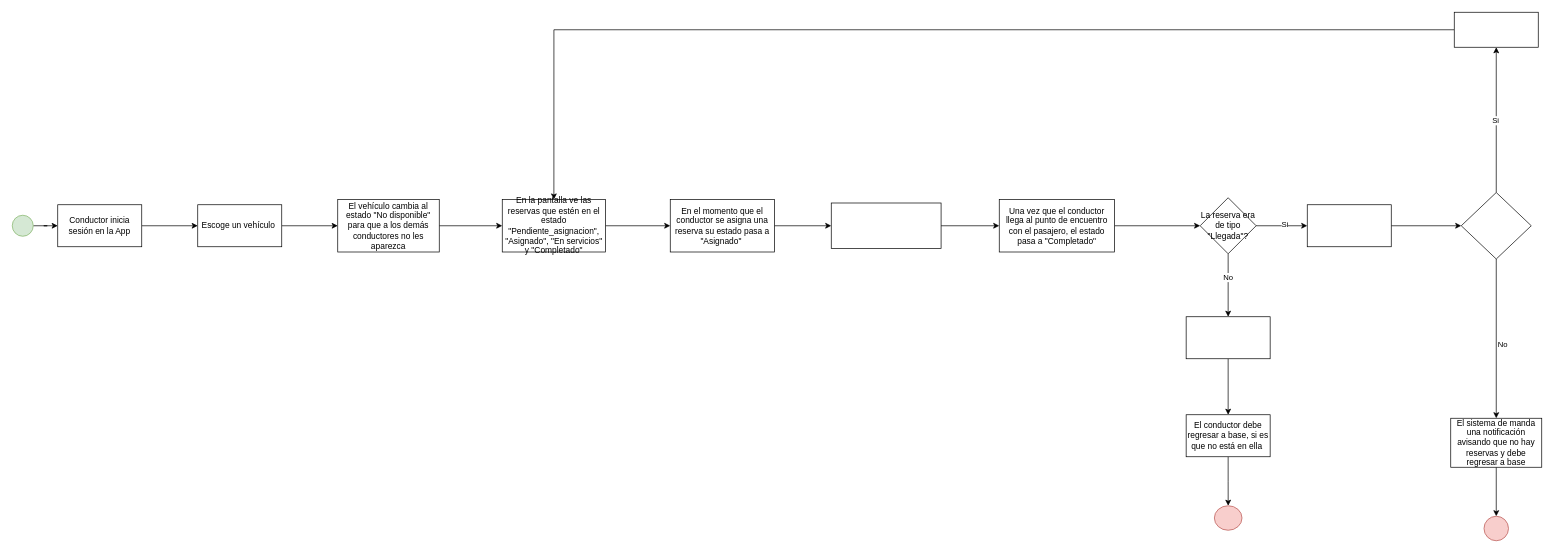
The diagram is 1554 pixels wide and 553 high, and some of its shapes have lost their labels. Here are the shapes that lost their labels. From the top down, the centre of each, then its label:
point (1496, 29): Le aparecen reservas en la pantalla
point (886, 225): Cuando se encuentra el conductor con el pasajero, el estado pasa a "En servicio"
point (1349, 225): El conductor finaliza la reserva y el estado de esta pasa a "Completada"
point (1496, 225): Hay reservas cercanas en un rango de 10 Min? (Tipo llegada)
point (1227, 337): El conductor finaliza la reserva y esta cambia a estado "Completado"
